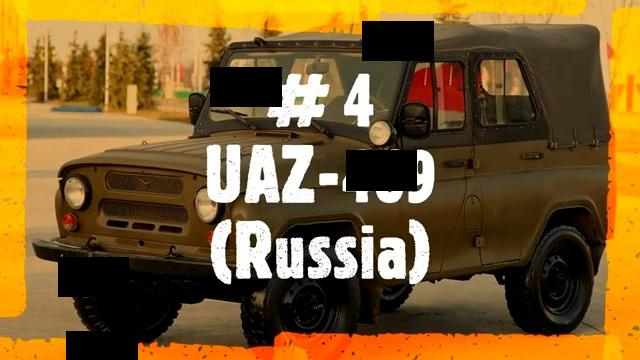MIL_HMMWV: (29, 22, 614, 342)
